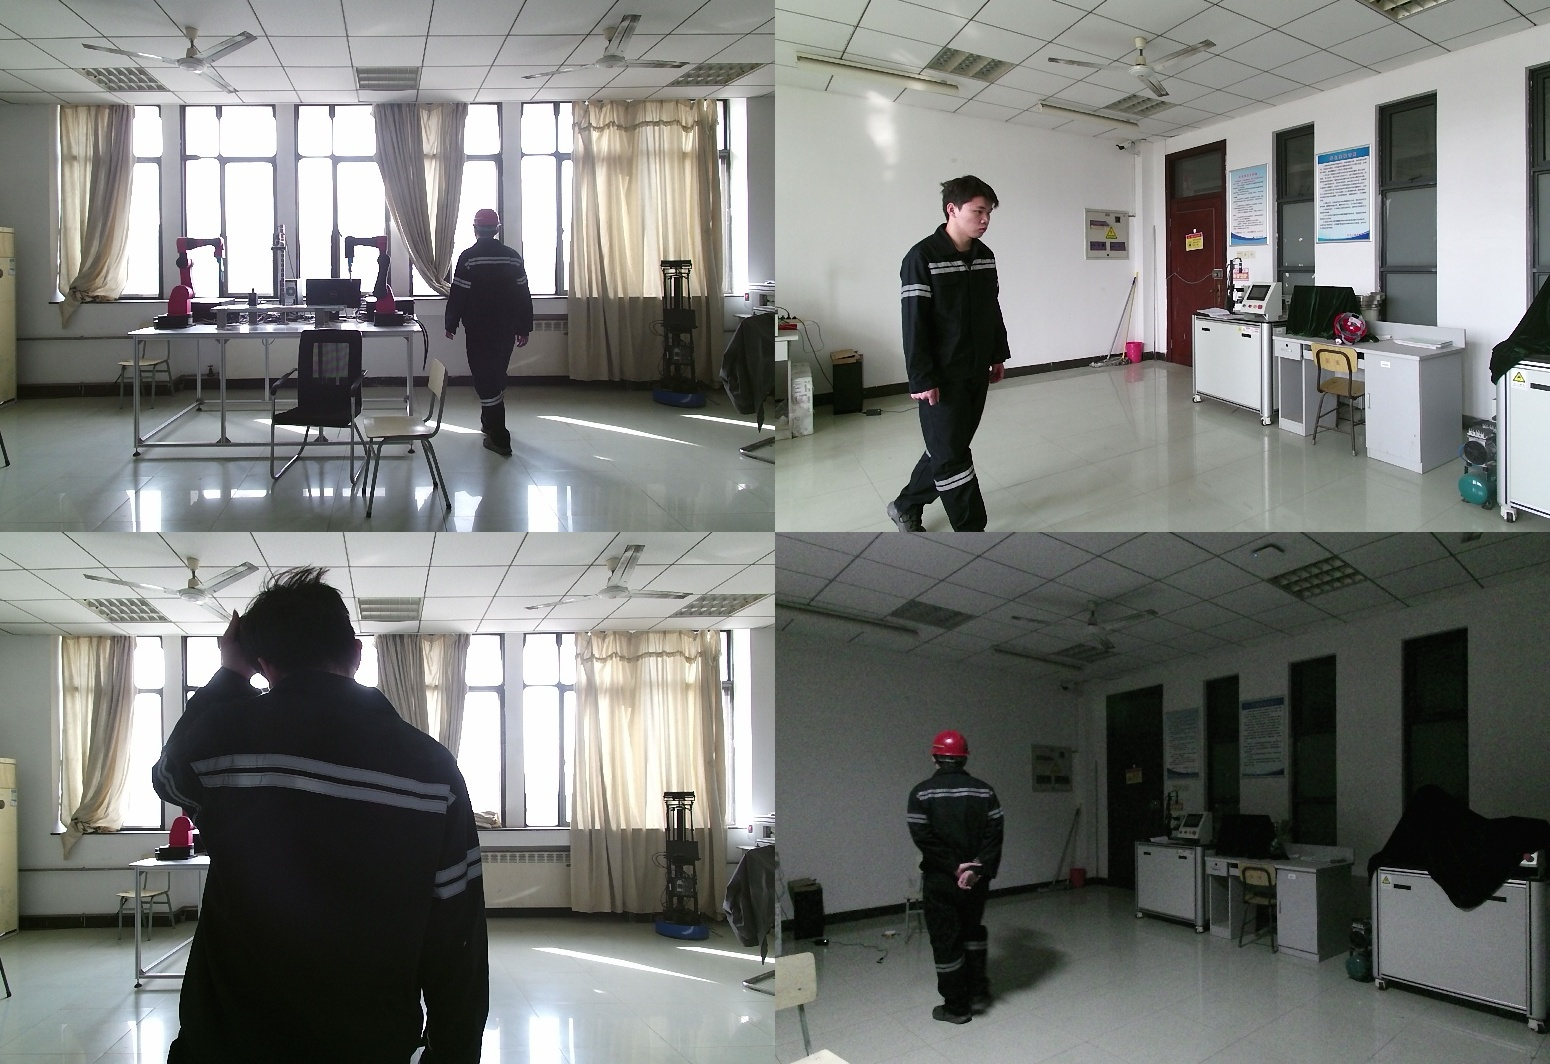person: (153, 576, 491, 1064), (885, 175, 1016, 532), (905, 733, 1025, 1022), (449, 206, 541, 457)
